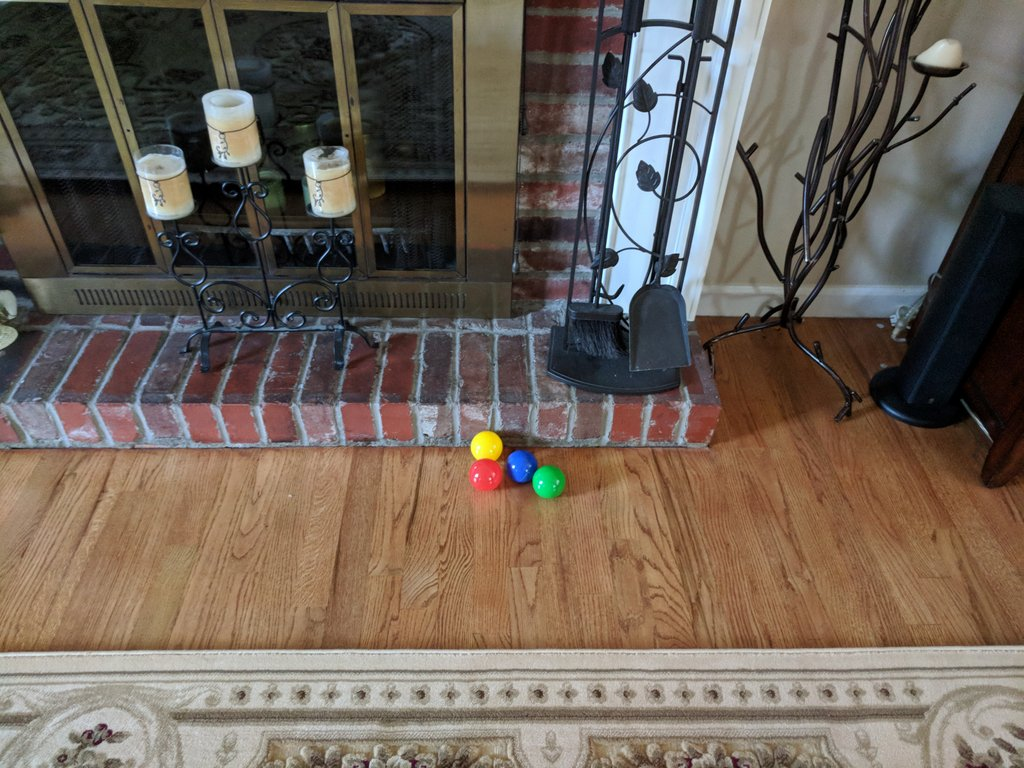ball: (468, 430, 503, 463)
